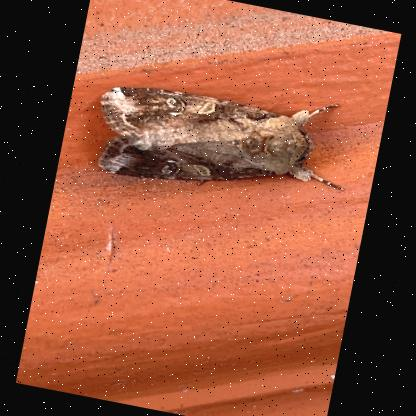Fall Armyworm Moth: (83, 56, 362, 222)
